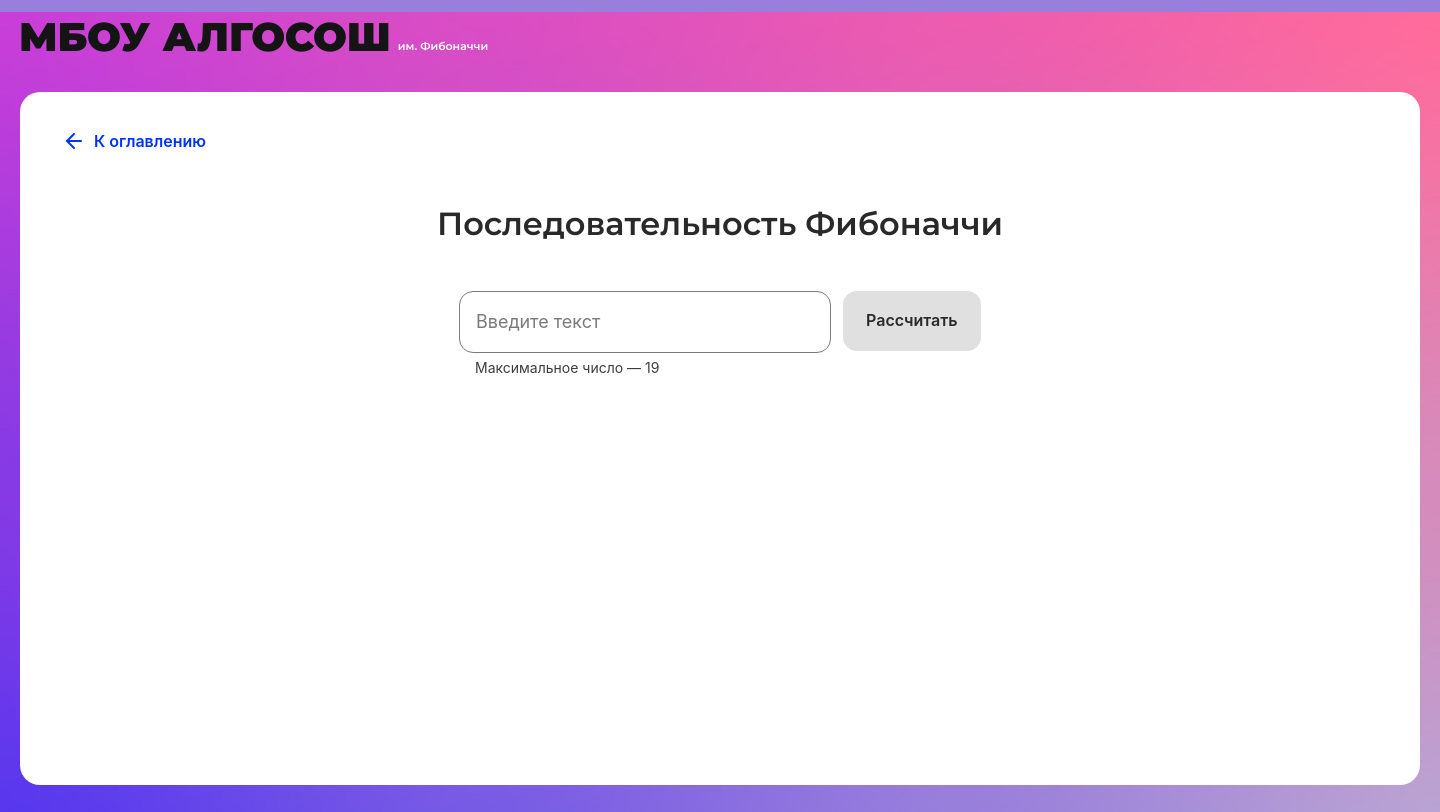
Test: Страница "Последовательность Фибоначчи" › кнопка "Рассчитать" недоступна, если в инпуте пусто
expect the button "Рассчитать" is disabled: met, box [843,291,981,351]
Type "1" into the number field with placeholder "Введите текст".
click(645, 322); type("1")  # box [459,291,831,353]
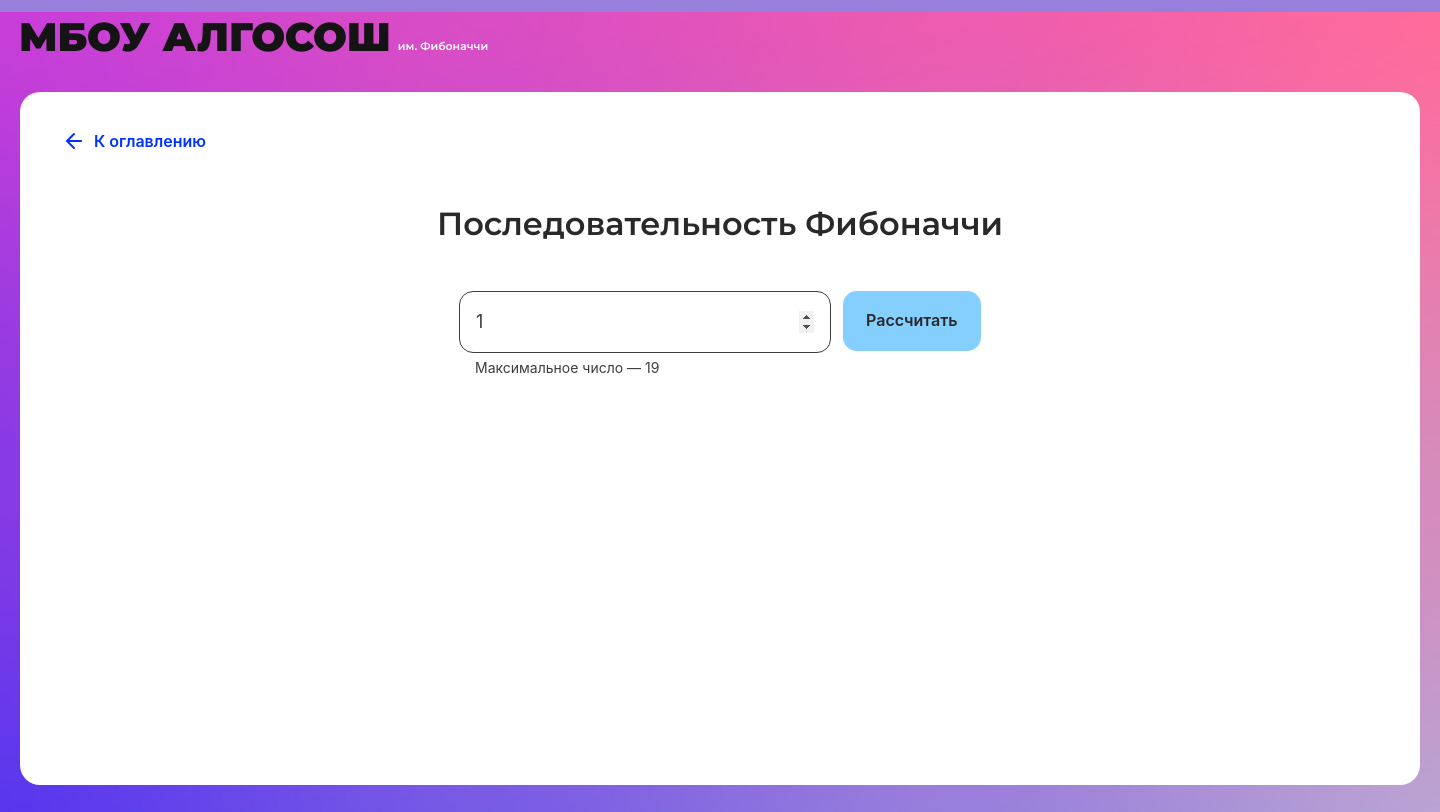
expect the button "Рассчитать" is enabled: met, box [843,291,981,351]
Press Backspace in the number field, box [459,291,831,353]
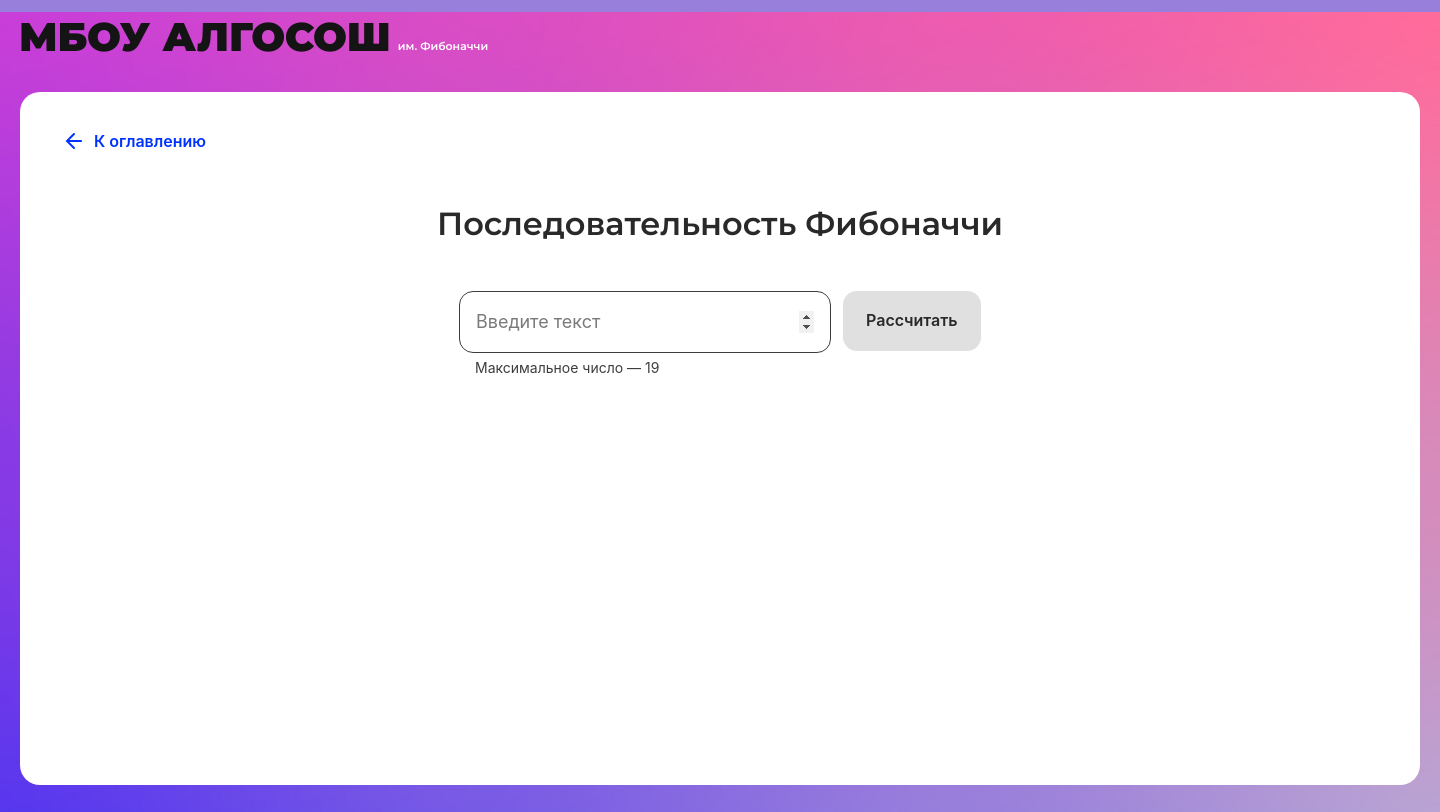
expect the button "Рассчитать" is disabled: met, box [843,291,981,351]
